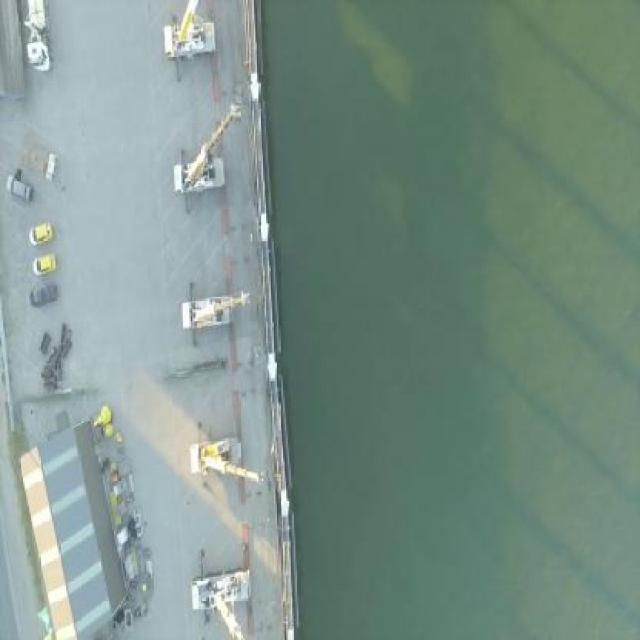Mobile Crane: (173, 102, 238, 195), (192, 564, 250, 638), (188, 435, 263, 482), (181, 288, 250, 332), (166, 0, 217, 54)
